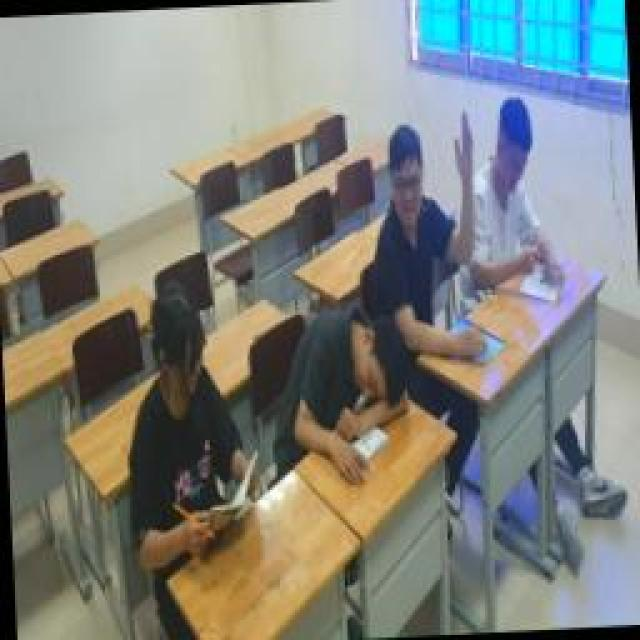sleep: (272, 305, 412, 493)
study: (120, 280, 262, 565), (367, 107, 485, 365), (457, 95, 565, 305)
